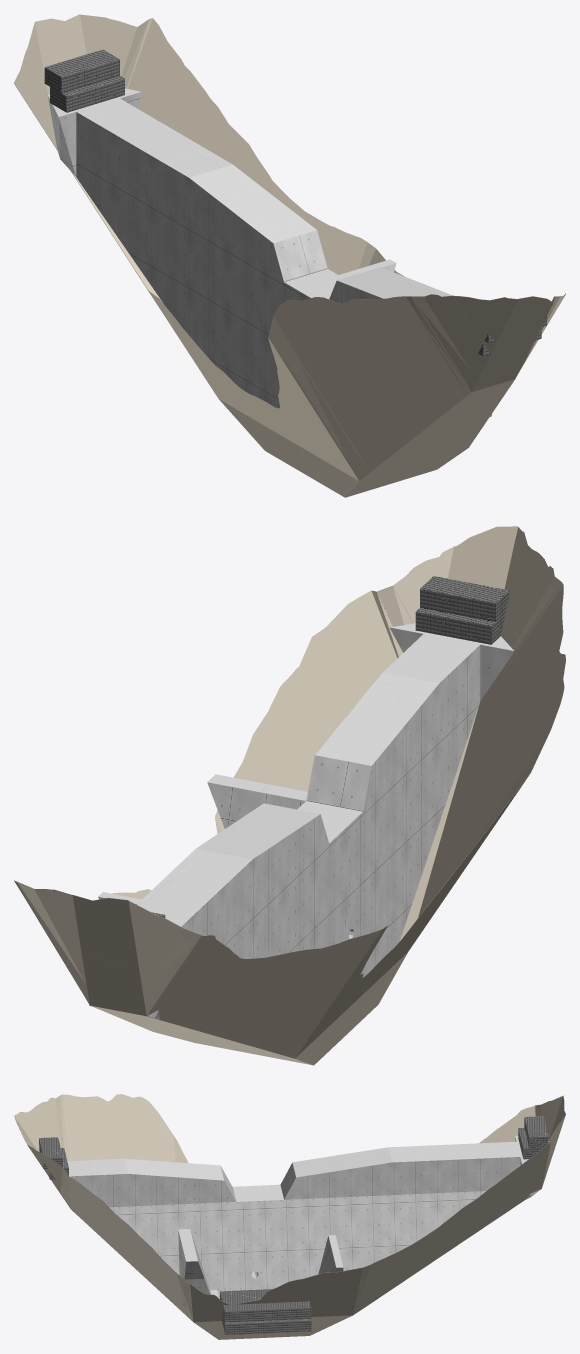
3 renders of one model, top to bottom at view 1: azimuth 30°, elevation 25°; view 2: azimuth 150°, elevation 25°; view 3: azimuth 270°, elevation 25°, orthographic. The views are drawn at different scales.
Parts seen in each view (by area): view 1: 土量計算用, 構造物モデル; view 2: 土量計算用, 構造物モデル; view 3: 構造物モデル, 土量計算用.
Boxes of the visible parts, x1,y1,x2,y2 form: 土量計算用: [14, 14, 565, 497]; 構造物モデル: [44, 49, 546, 416]; 土量計算用: [14, 526, 565, 1065]; 構造物モデル: [89, 576, 514, 1019]; 構造物モデル: [39, 1116, 549, 1334]; 土量計算用: [14, 1094, 565, 1339].
Bounding box in the file's own units: 8.7 × 9.23 × 22.91.
13 materials, 3 textured.
